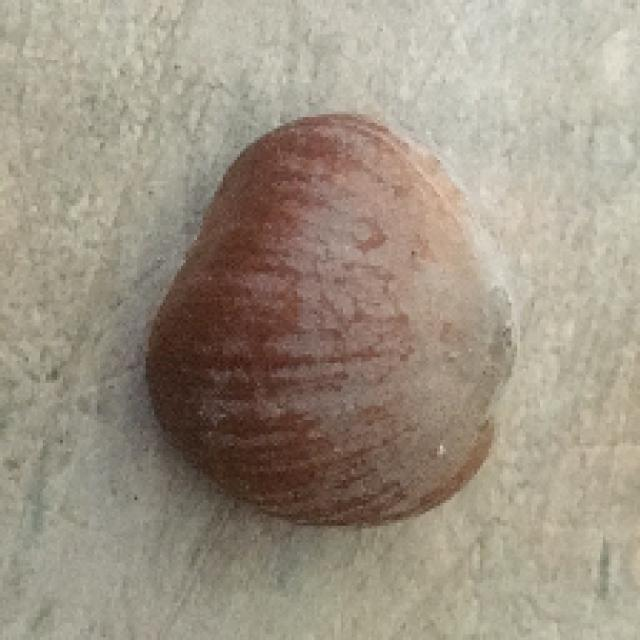qualityHazelnut: (146, 114, 523, 528)
